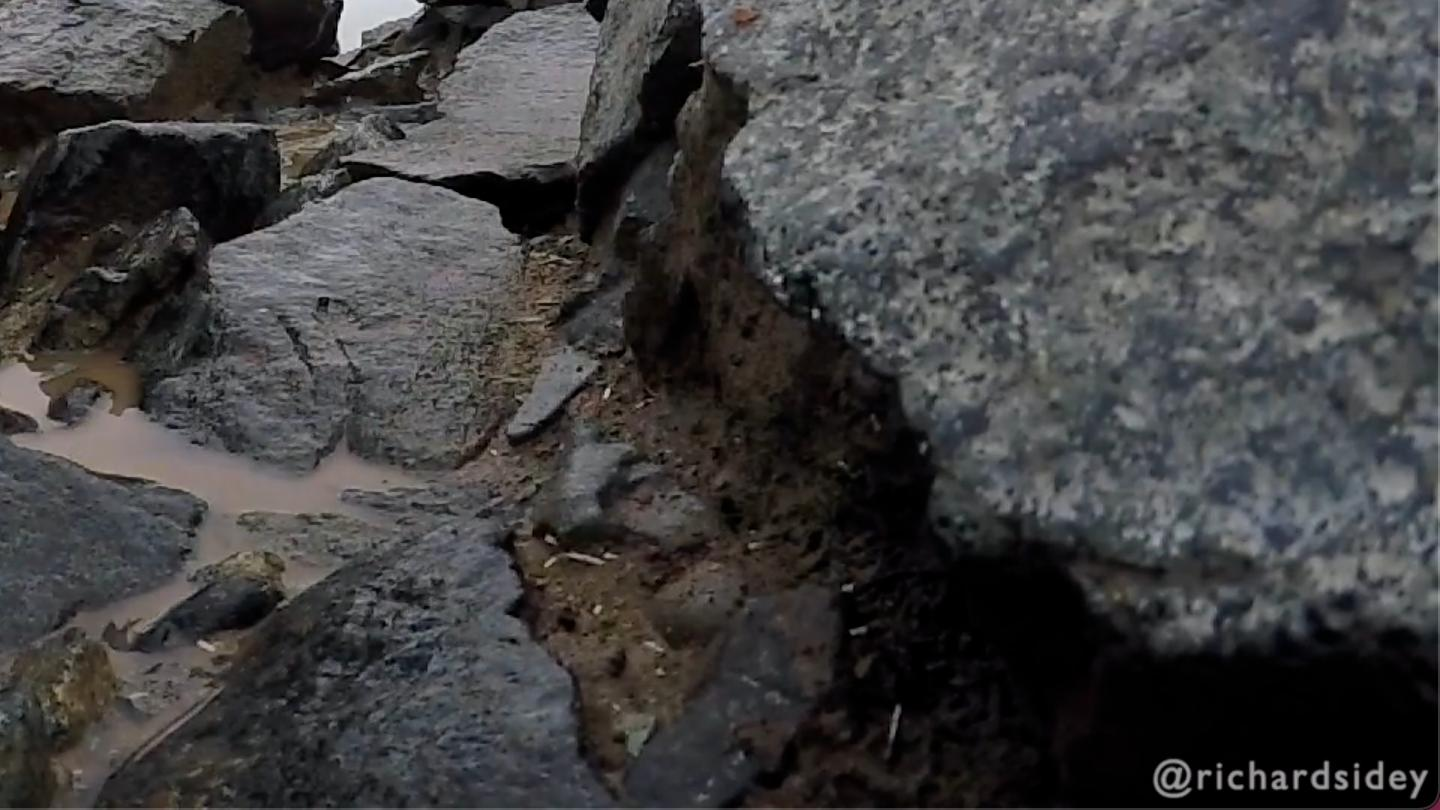Chinstrap Penguin: (0, 0, 92, 329)
